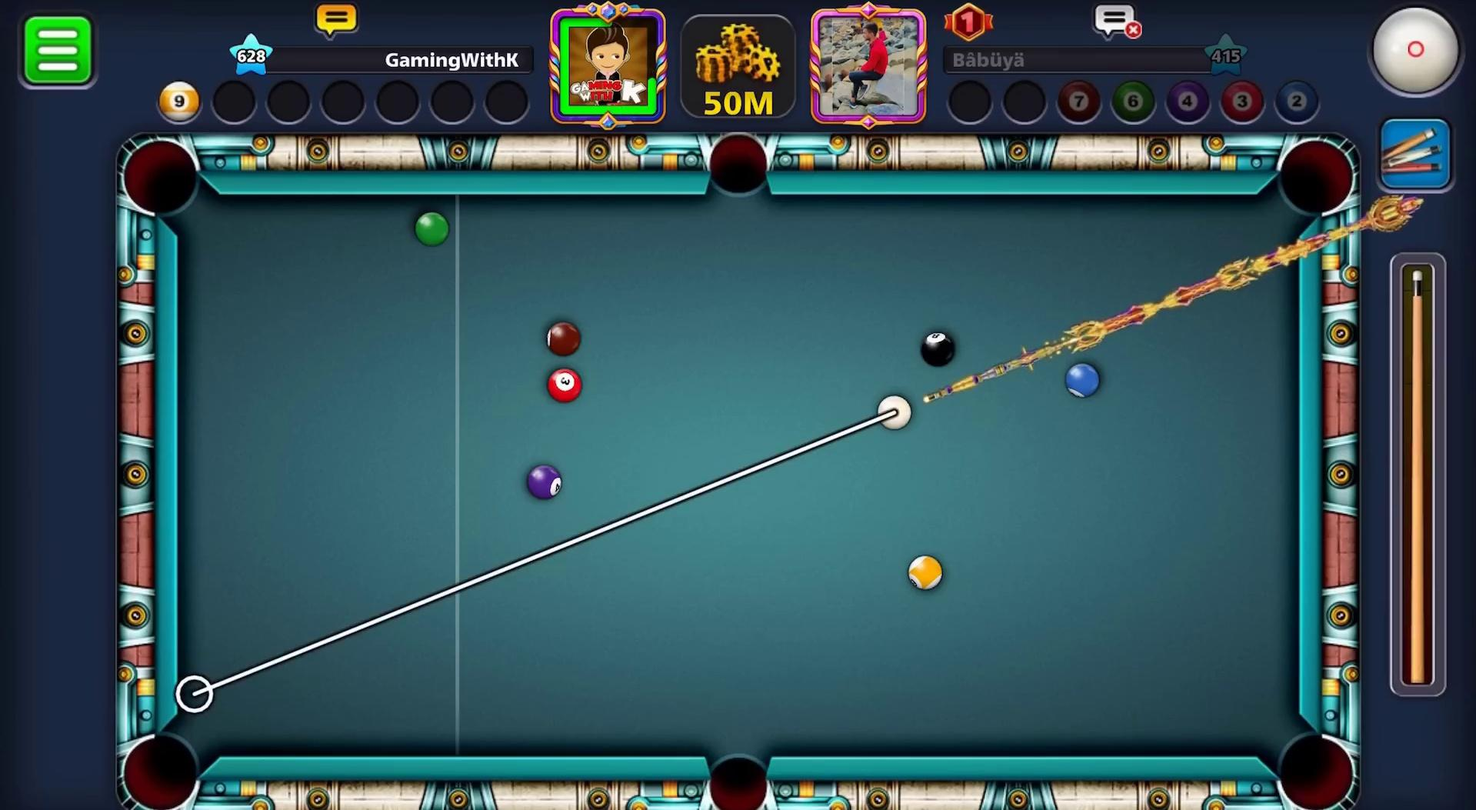Ball: (529, 315, 585, 365), (1056, 358, 1111, 407), (514, 459, 569, 506), (541, 362, 593, 405), (915, 328, 963, 372), (905, 549, 947, 598), (408, 210, 449, 249)
Force: (1384, 249, 1455, 700)
Guideline: (183, 402, 894, 707)
Hole: (106, 124, 210, 228), (1265, 124, 1365, 230), (1259, 712, 1364, 809), (697, 122, 782, 207), (689, 733, 782, 809)
Play_Area: (178, 195, 1298, 758)
Spin: (1361, 0, 1475, 111)
White: (873, 388, 921, 438)
